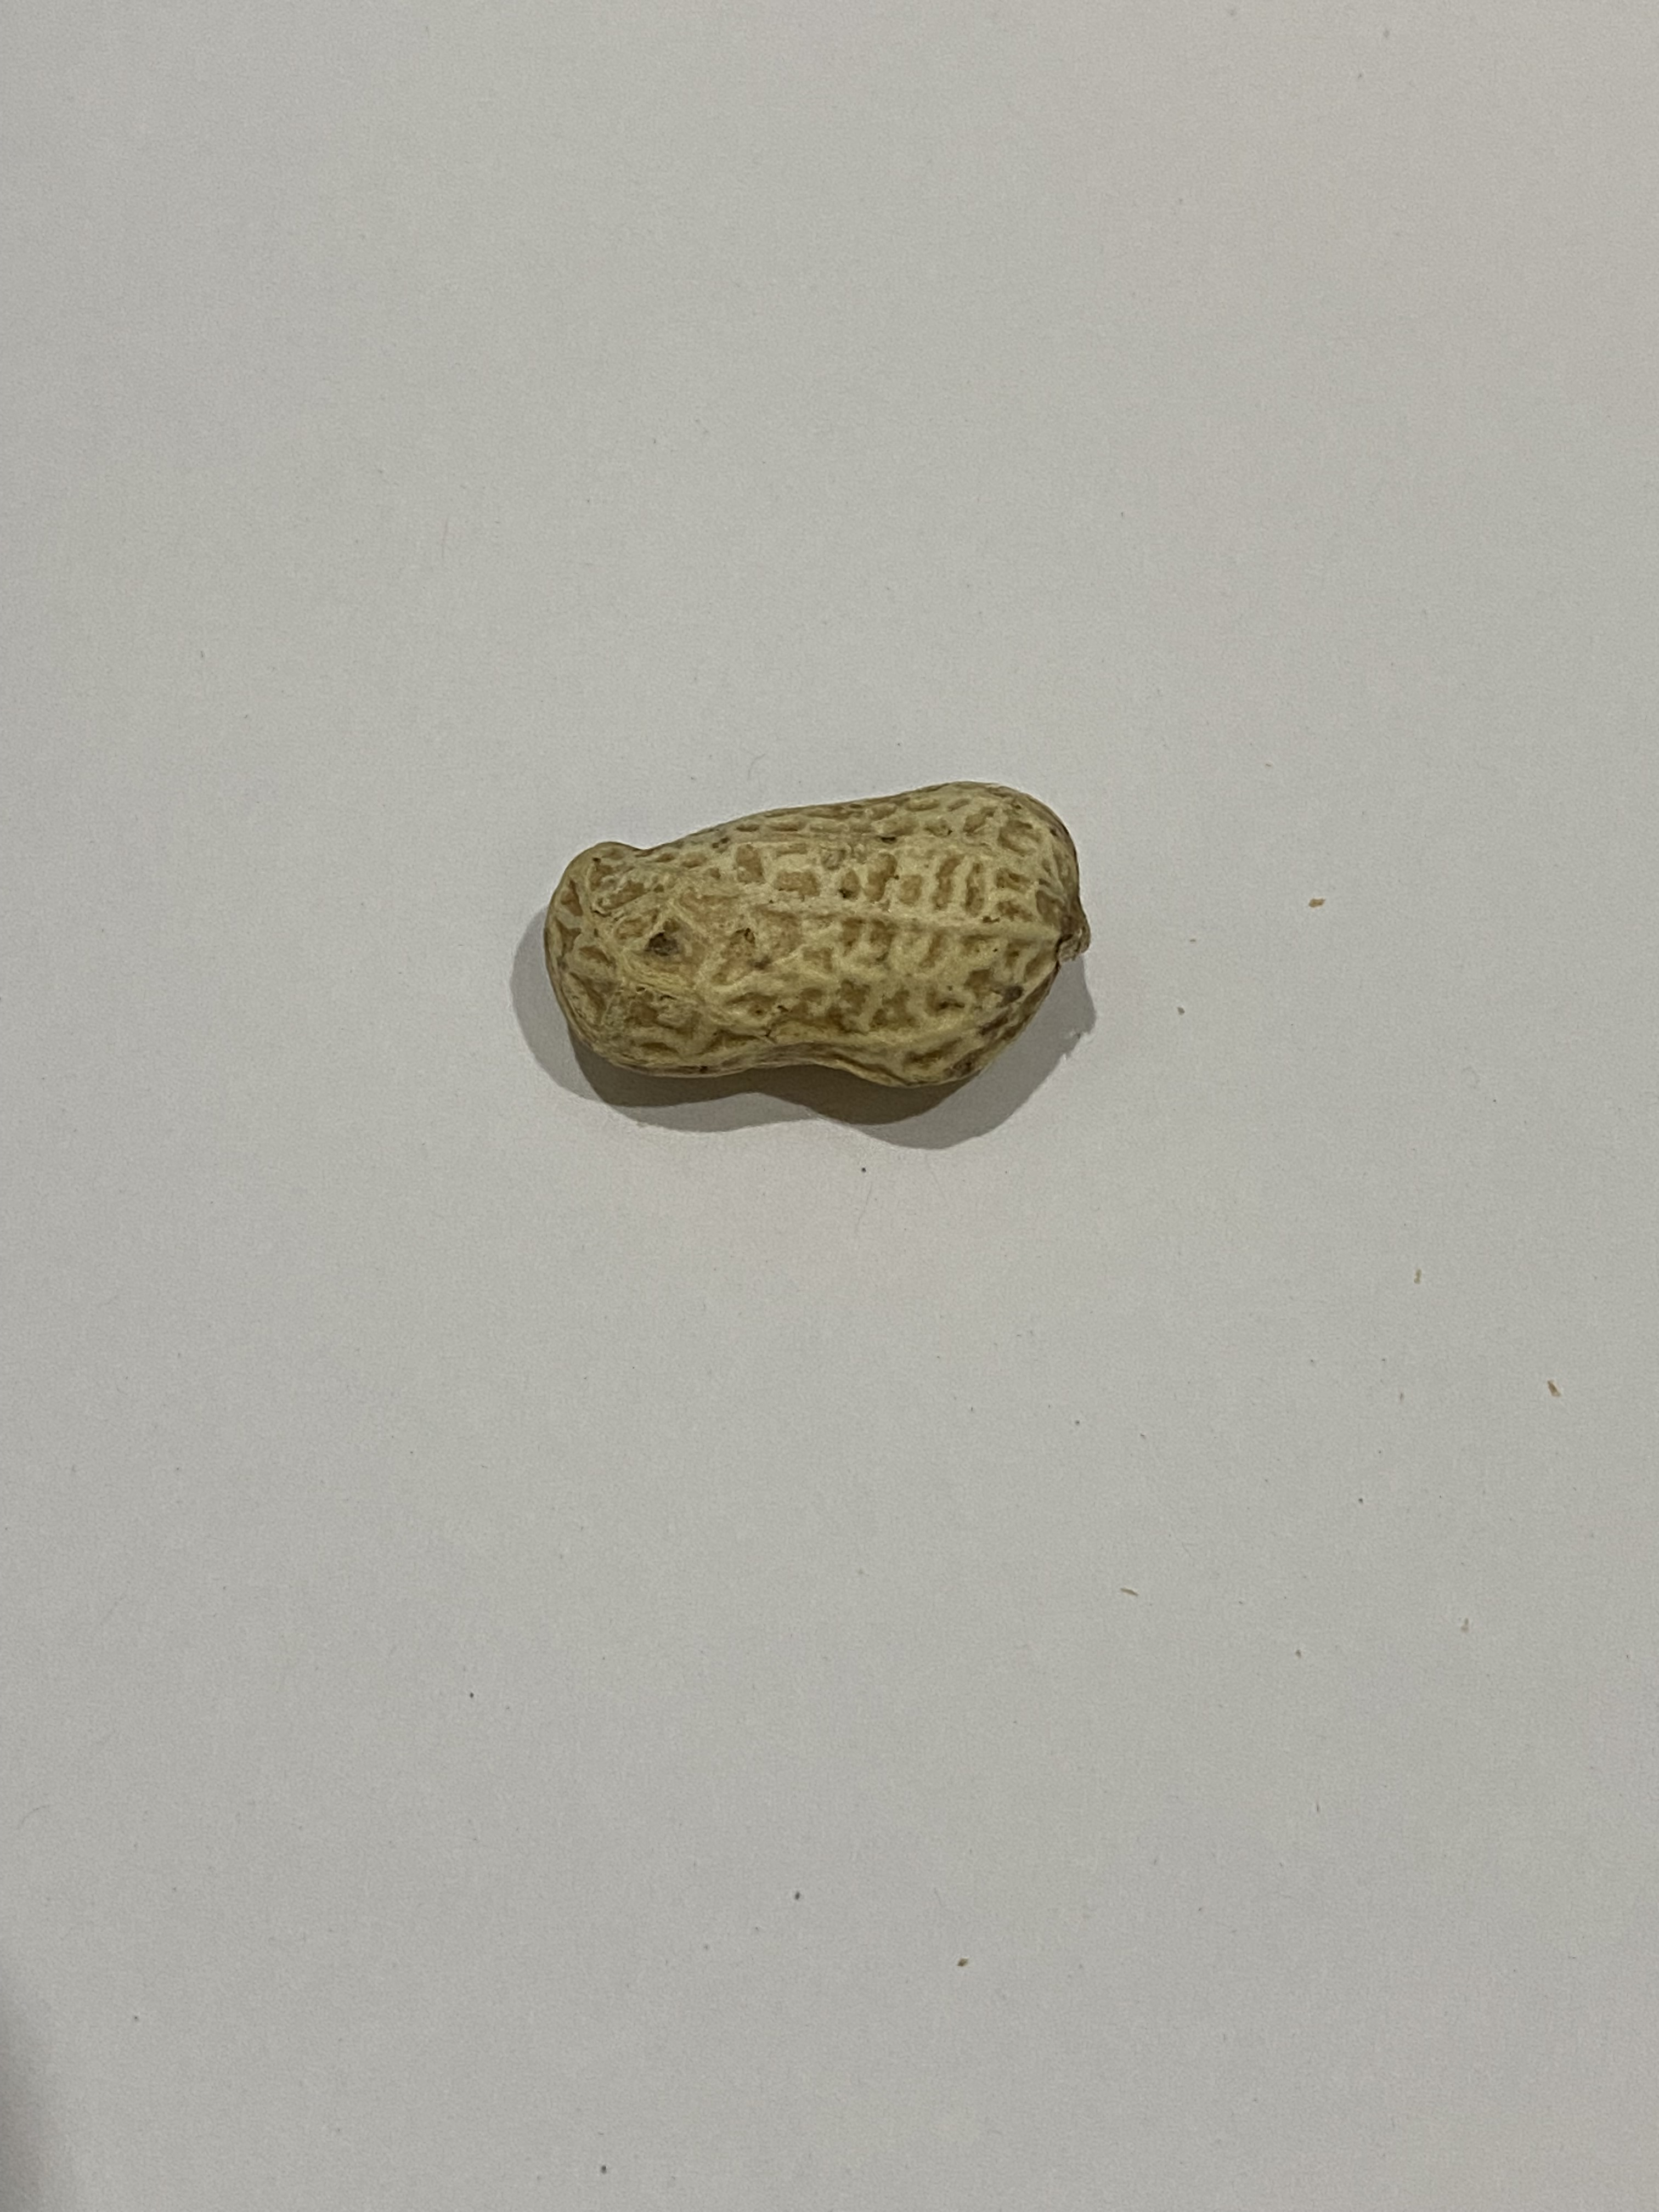kacang2: (509, 777, 1105, 1106)
